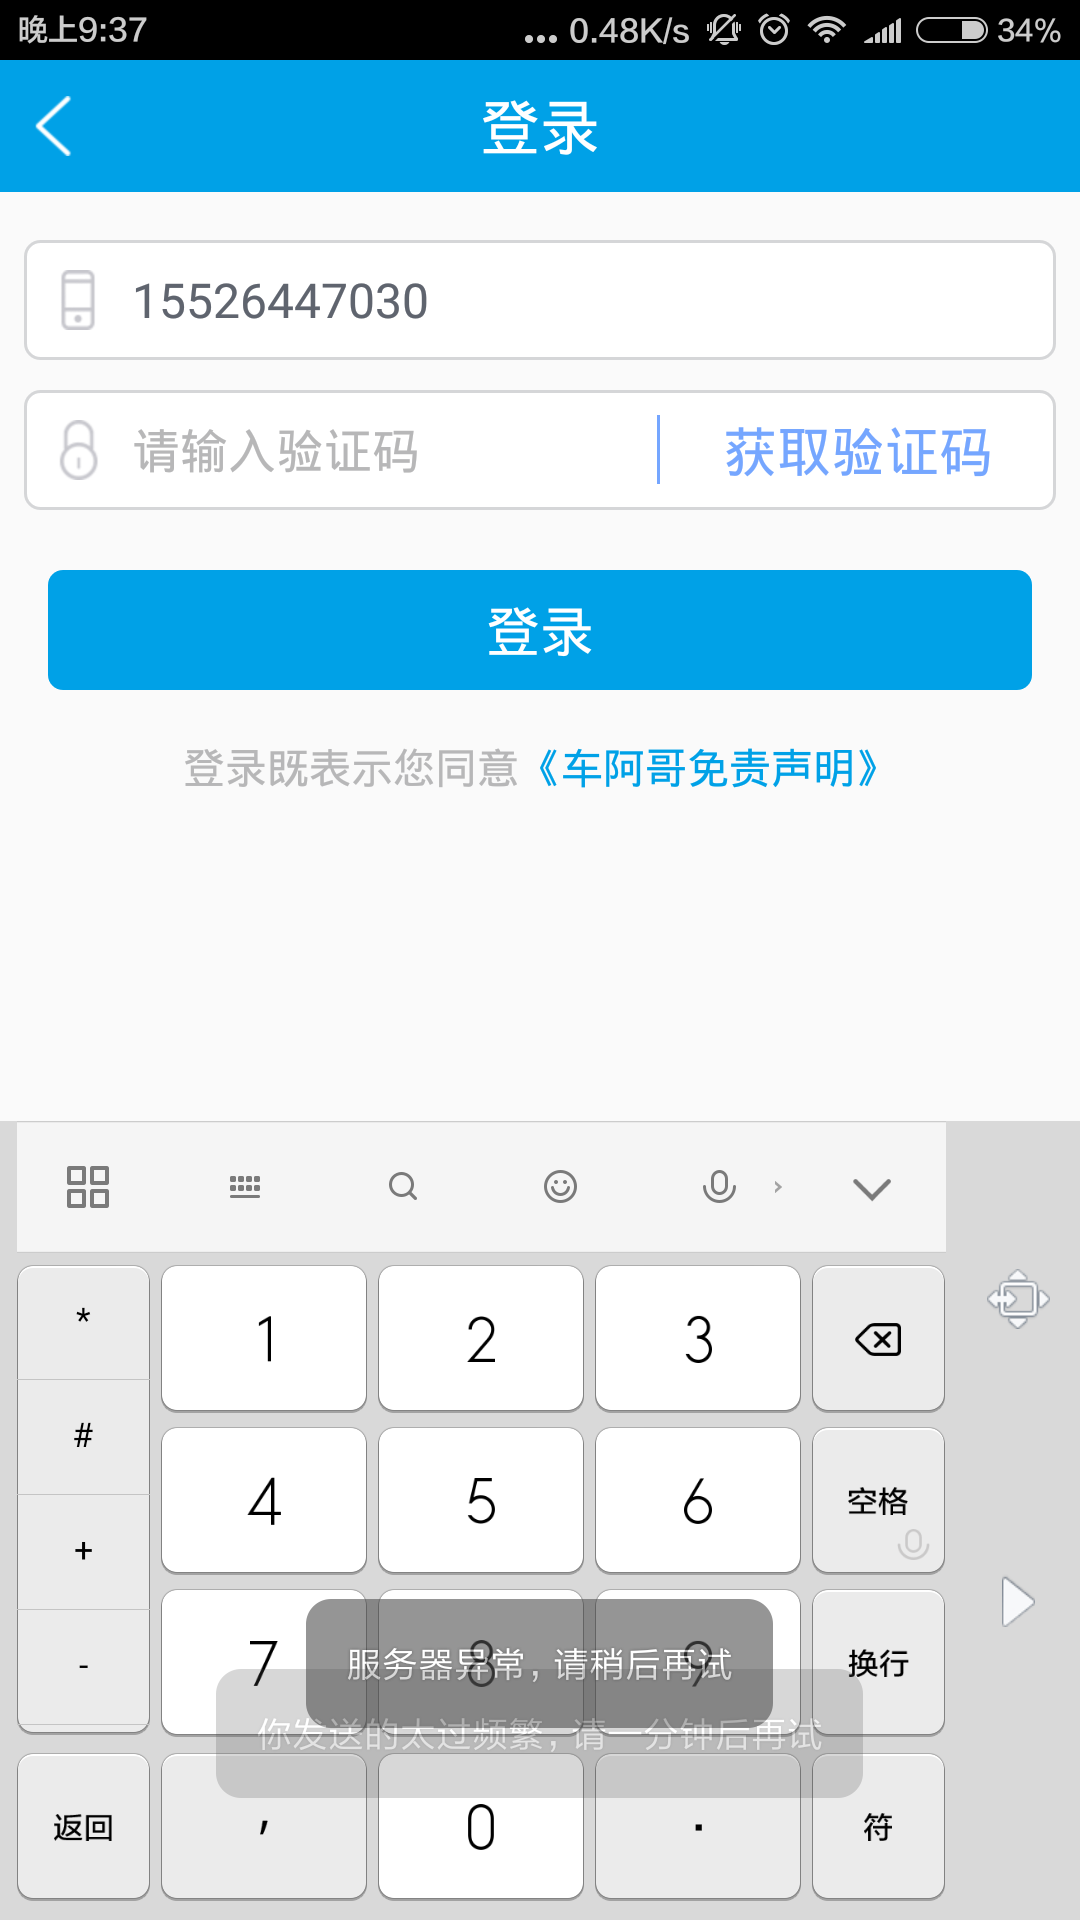button: (647, 382, 1067, 521)
